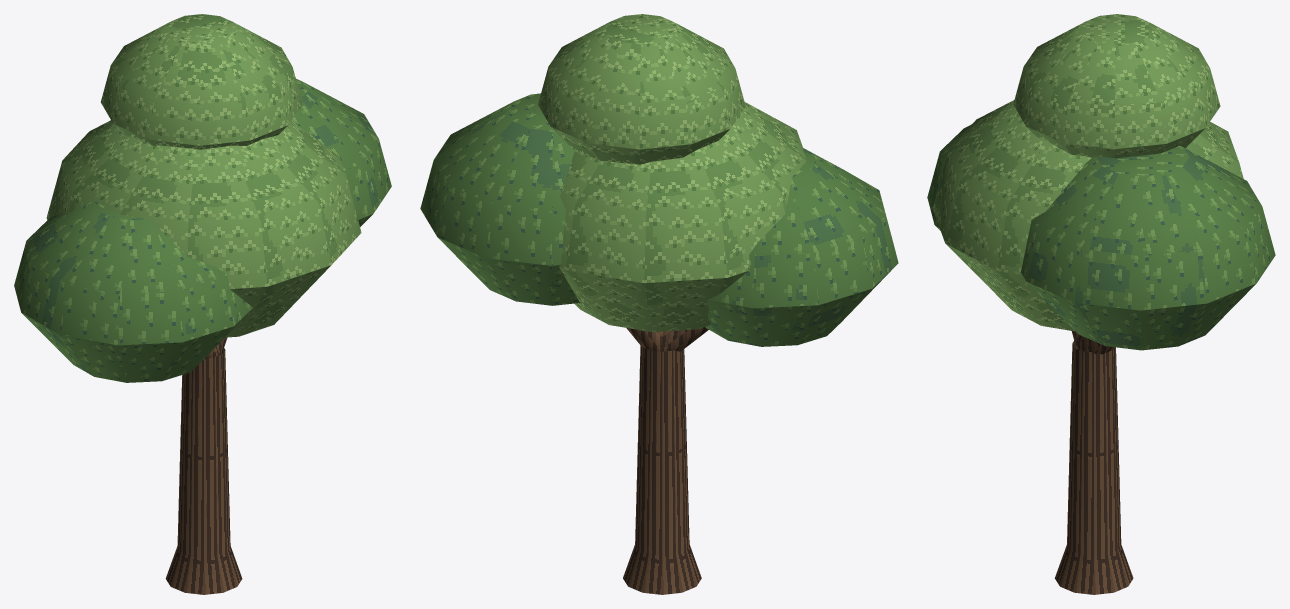
File: oak_1.glb
The picture shows the model from 3 angles, left to right: view 1: azimuth 30°, elevation 25°; view 2: azimuth 150°, elevation 25°; view 3: azimuth 270°, elevation 25°; orthographic projection. The views are drawn at different scales.
Visible parts, largest first — view 1: oak_2; view 2: oak_2; view 3: oak_2.
Boxes of the visible parts, x1=… form: oak_2: x1=14, y1=14, x2=391, y2=594; oak_2: x1=420, y1=14, x2=898, y2=594; oak_2: x1=927, y1=14, x2=1275, y2=594.
Size of the model in its own units: 3.67 by 4.88 by 2.79.
3 materials, 3 textured.
